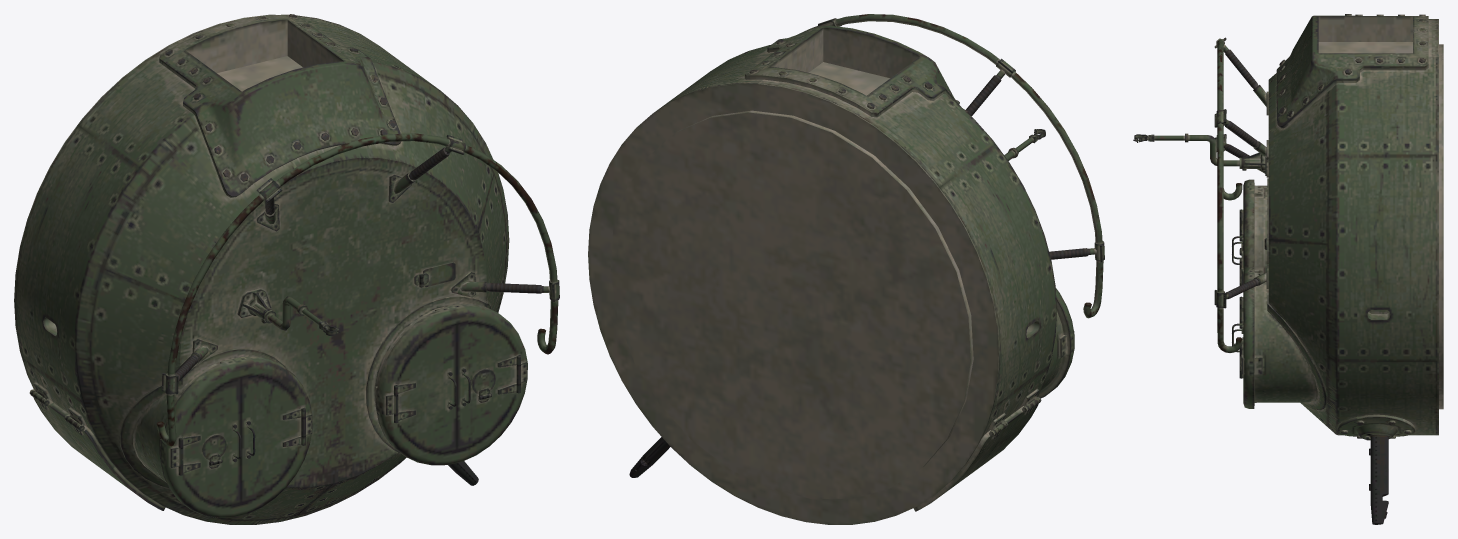
Rendered from Turret_02.glb.
The picture shows the model from 3 angles, left to right: view 1: azimuth 30°, elevation 25°; view 2: azimuth 150°, elevation 25°; view 3: azimuth 270°, elevation 25°; orthographic projection. The views are drawn at different scales.
Parts seen in each view (by area): view 1: set_0_group_0; view 2: set_0_group_0; view 3: set_0_group_0.
Boxes of the visible parts, x1=… form: set_0_group_0: x1=14, y1=14, x2=559, y2=524; set_0_group_0: x1=588, y1=14, x2=1104, y2=524; set_0_group_0: x1=1133, y1=14, x2=1443, y2=524.
Bounding box in the file's own units: 2.16 × 2.35 × 1.61.
Materials: 1 (1 with a texture image).
